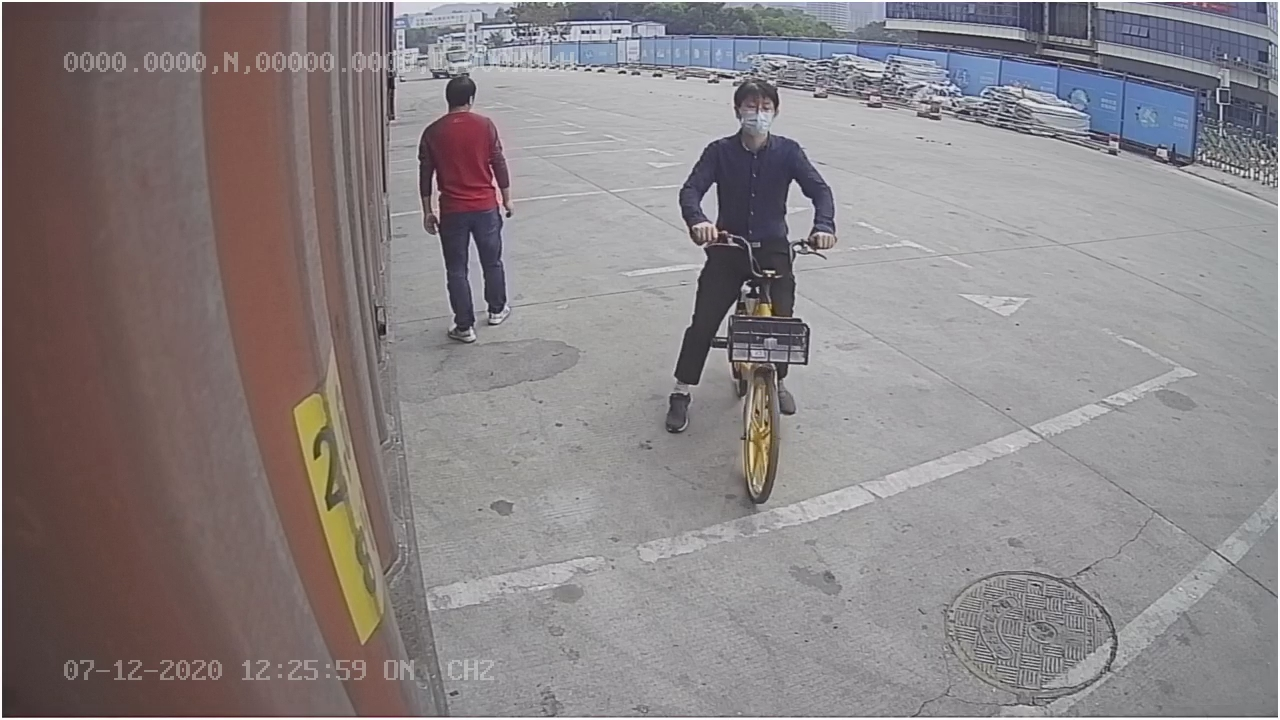person: (411, 69, 518, 349)
